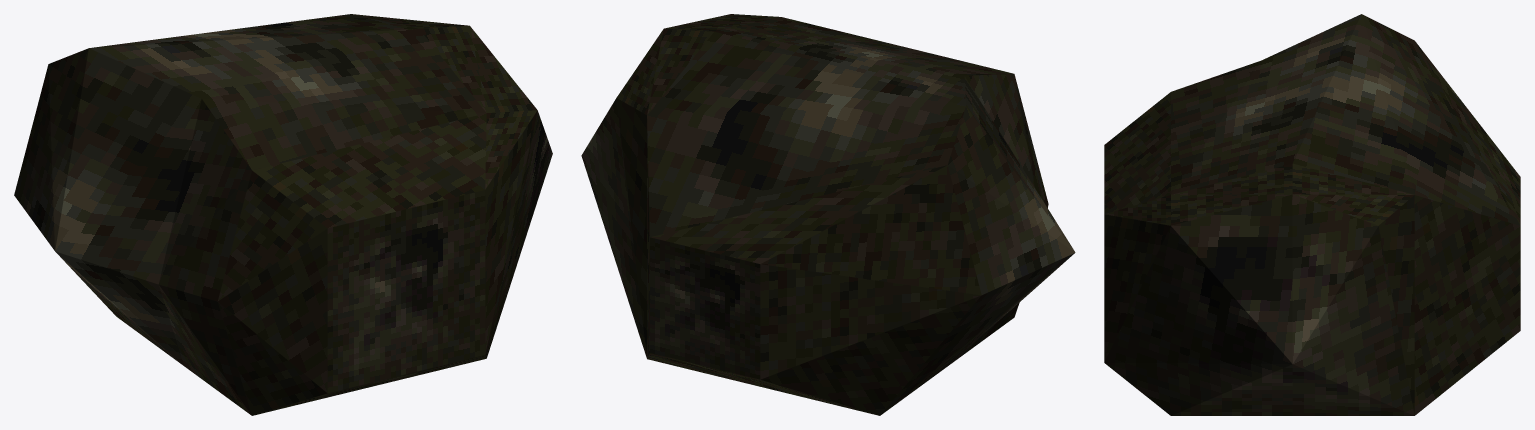
File: ASTN3.obj
3 renders of one model, left to right at view 1: azimuth 30°, elevation 25°; view 2: azimuth 150°, elevation 25°; view 3: azimuth 270°, elevation 25°, orthographic. The views are drawn at different scales.
Parts seen in each view (by area): view 1: Object_0; view 2: Object_0; view 3: Object_0.
Boxes of the visible parts, x1,y1,x2,y2 form: Object_0: [14, 14, 552, 415]; Object_0: [581, 14, 1075, 415]; Object_0: [1104, 14, 1520, 415].
Size of the model in its own units: 14058 by 9586 by 11318.
4 materials, 4 textured.
